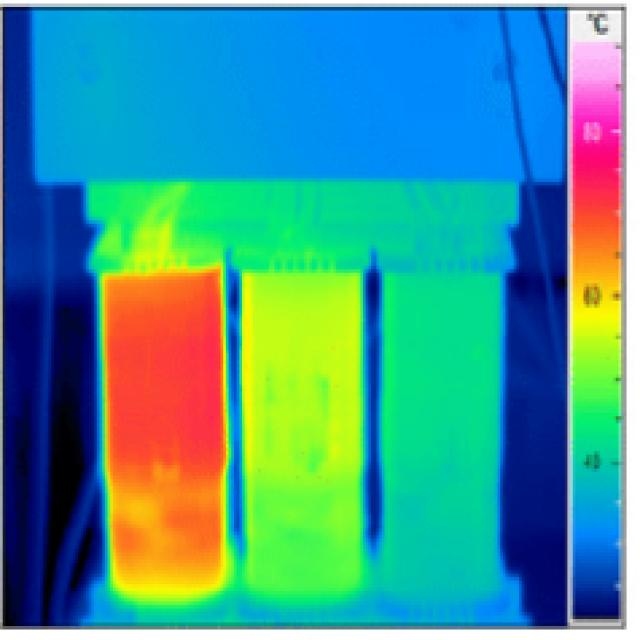Transformer: (32, 10, 562, 623)
